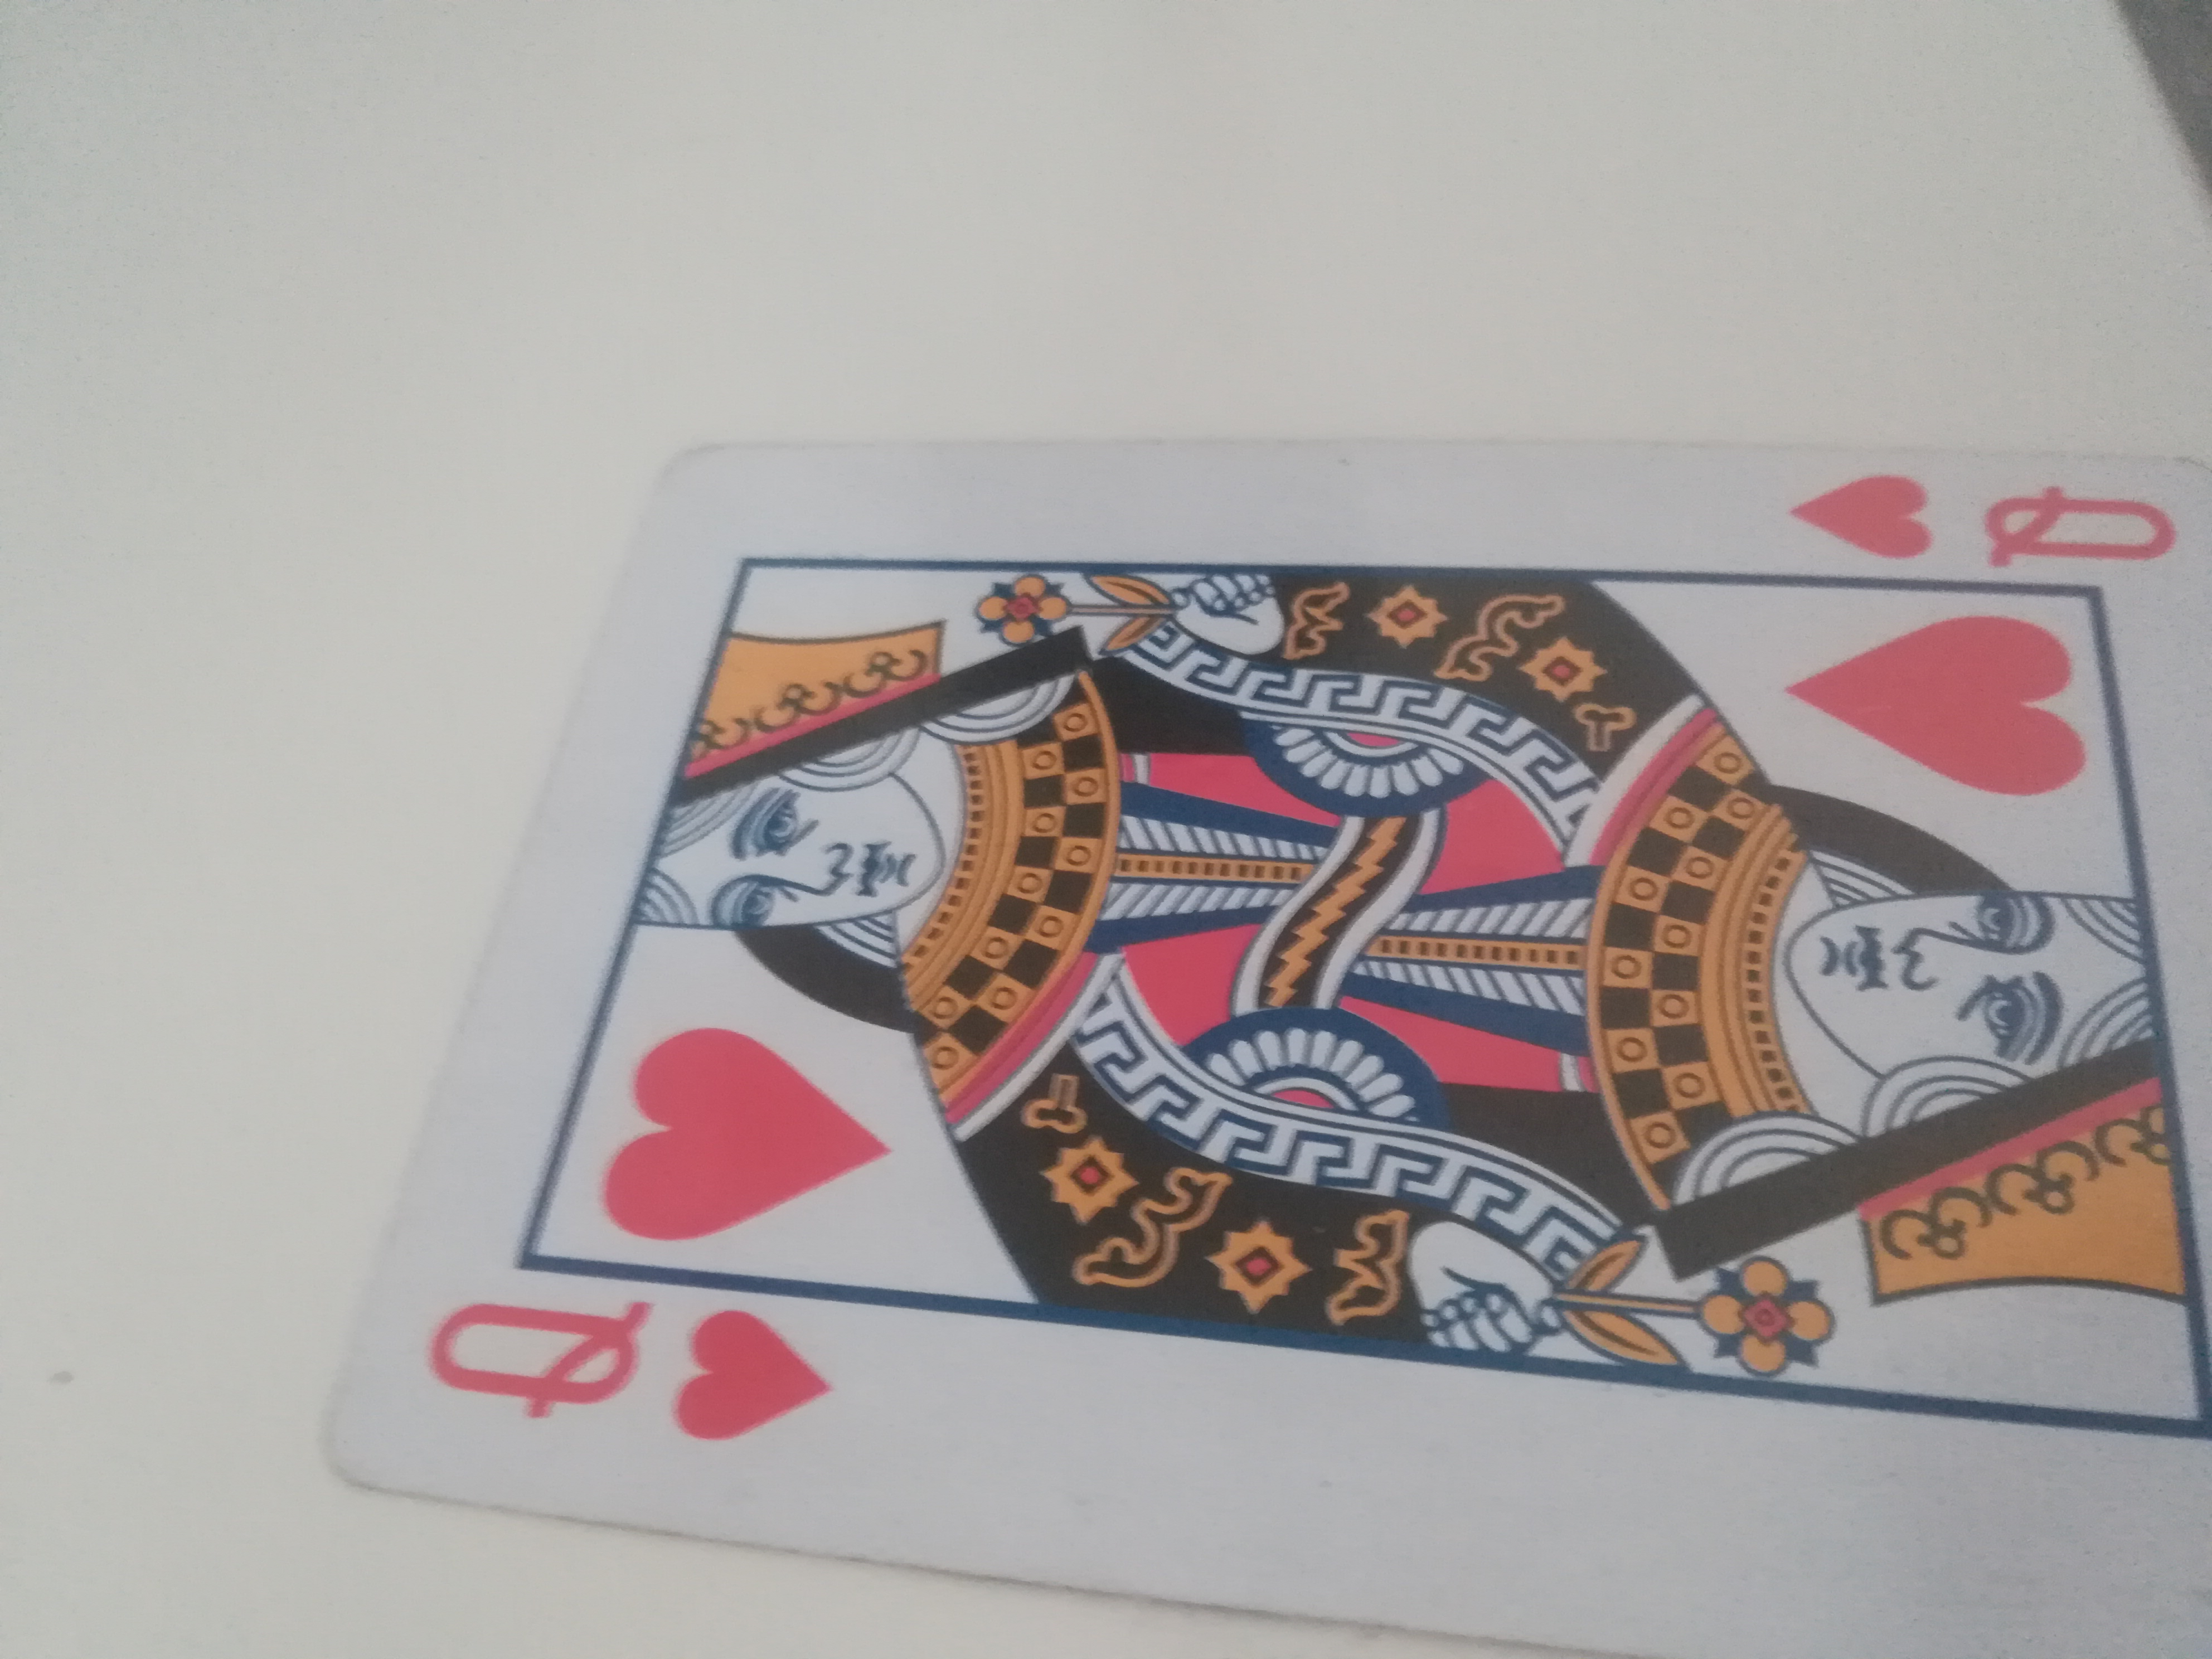QH: (319, 446, 2212, 1656)
